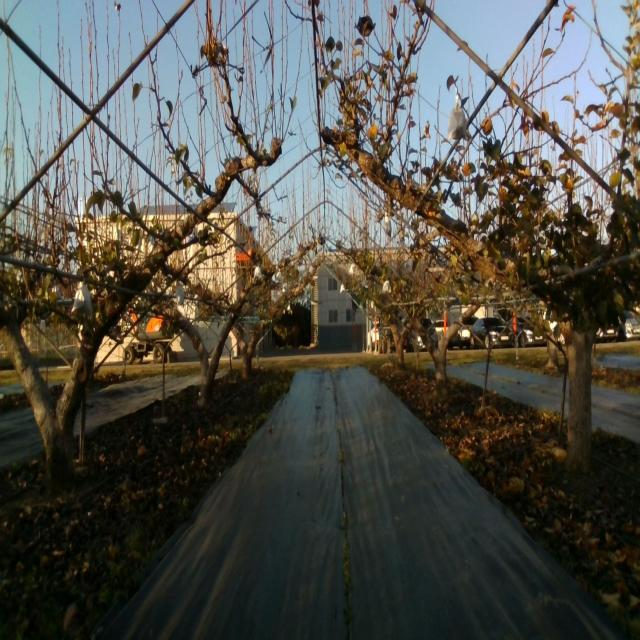pearbags: (445, 94, 468, 143), (71, 284, 94, 319), (176, 285, 186, 306)
